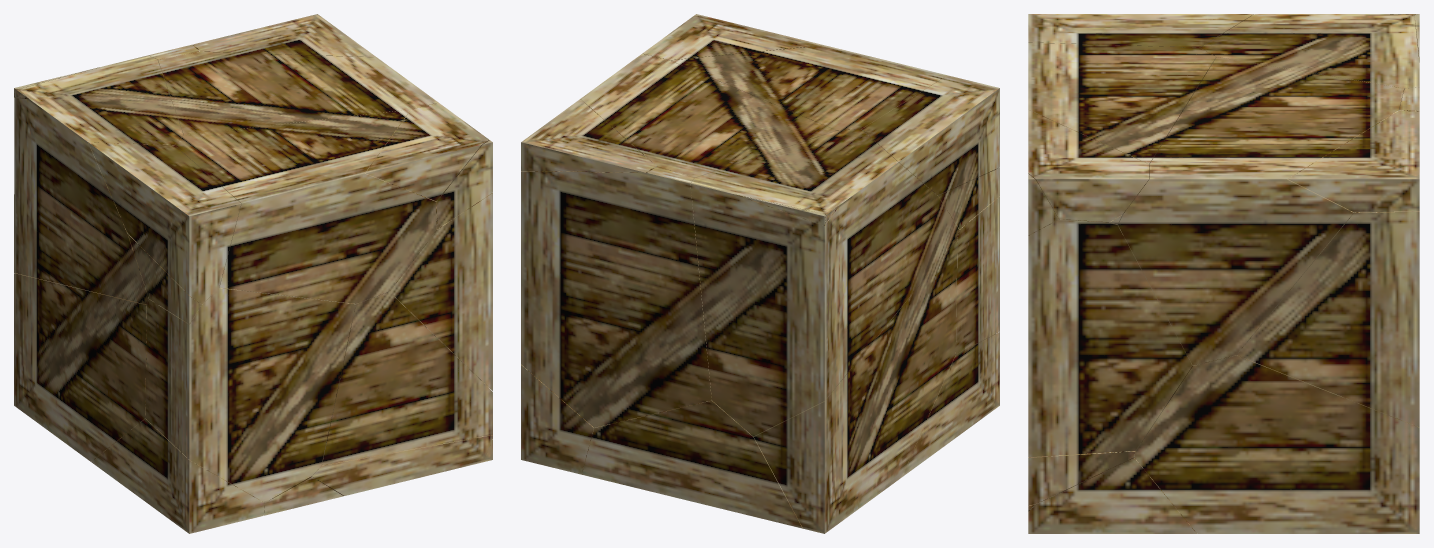
File: game_asset_wooden_crate_breakable.glb
3 renders of one model, left to right at view 1: azimuth 30°, elevation 25°; view 2: azimuth 150°, elevation 25°; view 3: azimuth 270°, elevation 25°, orthographic. The views are drawn at different scales.
Parts seen in each view (by area): view 1: Cube_cell.015, Cube_cell.011, Cube_cell.013, Cube_cell.010, Cube_cell.005, Cube_cell.014, Cube_cell.016, Cube_cell.002, Cube_cell.008, Cube_cell.021, Cube_cell, Cube_cell.009 (+3 smaller); view 2: Cube_cell.013, Cube_cell.017, Cube_cell.010, Cube_cell.014, Cube_cell.007, Cube_cell.011, Cube_cell.016, Cube_cell.009, Cube_cell.008, Cube_cell.015, Cube_cell.003, Cube_cell.021 (+2 smaller); view 3: Cube_cell.014, Cube_cell.003, Cube_cell.002, Cube_cell.017, Cube_cell.011, Cube_cell.013, Cube_cell.021, Cube_cell.009, Cube_cell.020, Cube_cell.016, Cube_cell.005, Cube_cell.001.
Part boxes in pixels (<box>): Cube_cell.015: <box>145,287,355,502</box>; Cube_cell.011: <box>174,109,437,303</box>; Cube_cell.013: <box>14,55,183,304</box>; Cube_cell.010: <box>14,273,146,461</box>; Cube_cell.005: <box>322,292,492,465</box>; Cube_cell.014: <box>158,51,438,135</box>; Cube_cell.016: <box>88,142,241,304</box>; Cube_cell.002: <box>389,193,492,390</box>; Cube_cell.008: <box>91,418,264,533</box>; Cube_cell.021: <box>365,102,488,201</box>; Cube_cell: <box>311,435,492,495</box>; Cube_cell.009: <box>194,14,376,57</box>; Cube_cell.013: <box>690,129,959,436</box>; Cube_cell.017: <box>521,166,711,427</box>; Cube_cell.010: <box>754,239,957,533</box>; Cube_cell.014: <box>580,53,836,177</box>; Cube_cell.007: <box>582,400,802,528</box>; Cube_cell.011: <box>670,45,947,168</box>; Cube_cell.016: <box>862,75,999,195</box>; Cube_cell.009: <box>521,99,655,172</box>; Cube_cell.008: <box>902,332,999,476</box>; Cube_cell.015: <box>907,169,999,354</box>; Cube_cell.003: <box>521,364,594,474</box>; Cube_cell.021: <box>642,16,823,60</box>; Cube_cell.014: <box>1118,57,1403,365</box>; Cube_cell.003: <box>1134,355,1419,533</box>; Cube_cell.002: <box>1028,219,1192,457</box>; Cube_cell.017: <box>1235,87,1419,427</box>; Cube_cell.011: <box>1028,42,1215,164</box>; Cube_cell.013: <box>1200,14,1419,88</box>; Cube_cell.021: <box>1028,110,1148,222</box>; Cube_cell.009: <box>1288,111,1419,212</box>; Cube_cell.020: <box>1028,458,1196,533</box>; Cube_cell.016: <box>1028,14,1253,47</box>; Cube_cell.005: <box>1028,451,1135,505</box>; Cube_cell.001: <box>1028,174,1058,235</box>.
Bounding box in the file's own units: 2 × 2 × 2.
Materials: 1 (1 with a texture image).
